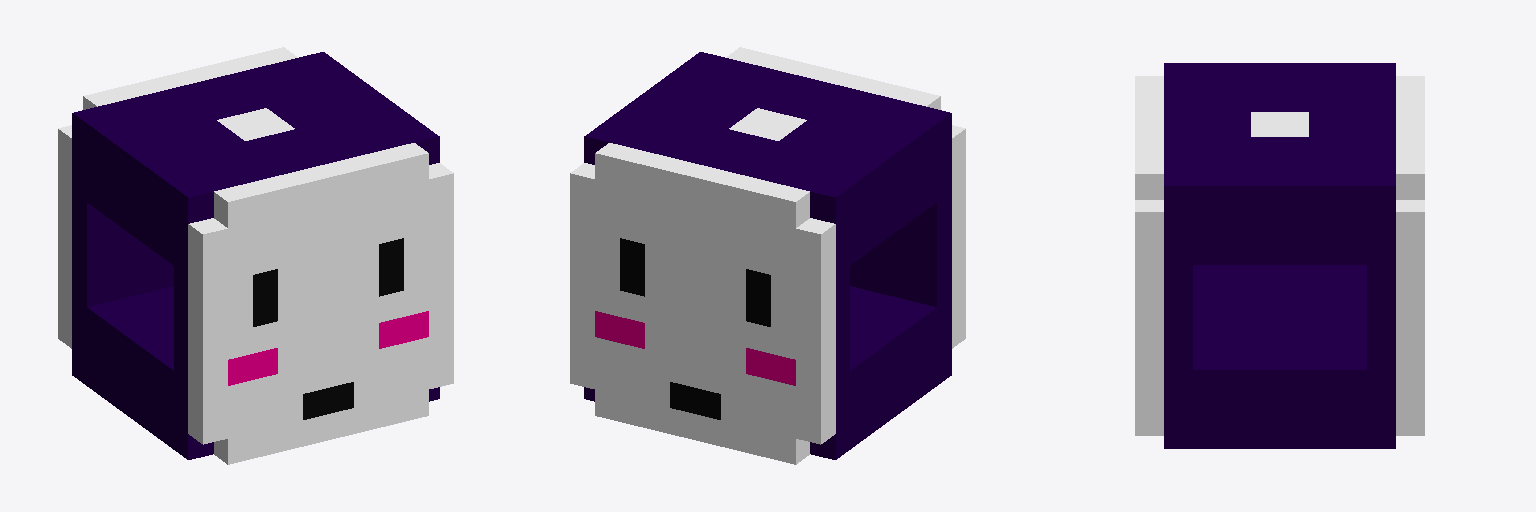
3 renders of one model, left to right at view 1: azimuth 30°, elevation 25°; view 2: azimuth 150°, elevation 25°; view 3: azimuth 270°, elevation 25°, orthographic.
Visible parts, largest first — view 1: box02; view 2: box02; view 3: box02.
Boxes of the visible parts, <box> form: box02: <box>58,47,453,464</box>; box02: <box>570,47,965,464</box>; box02: <box>1135,63,1424,448</box>.
Bounding box in the file's own units: 10 × 10 × 10.
1 materials, 1 textured.